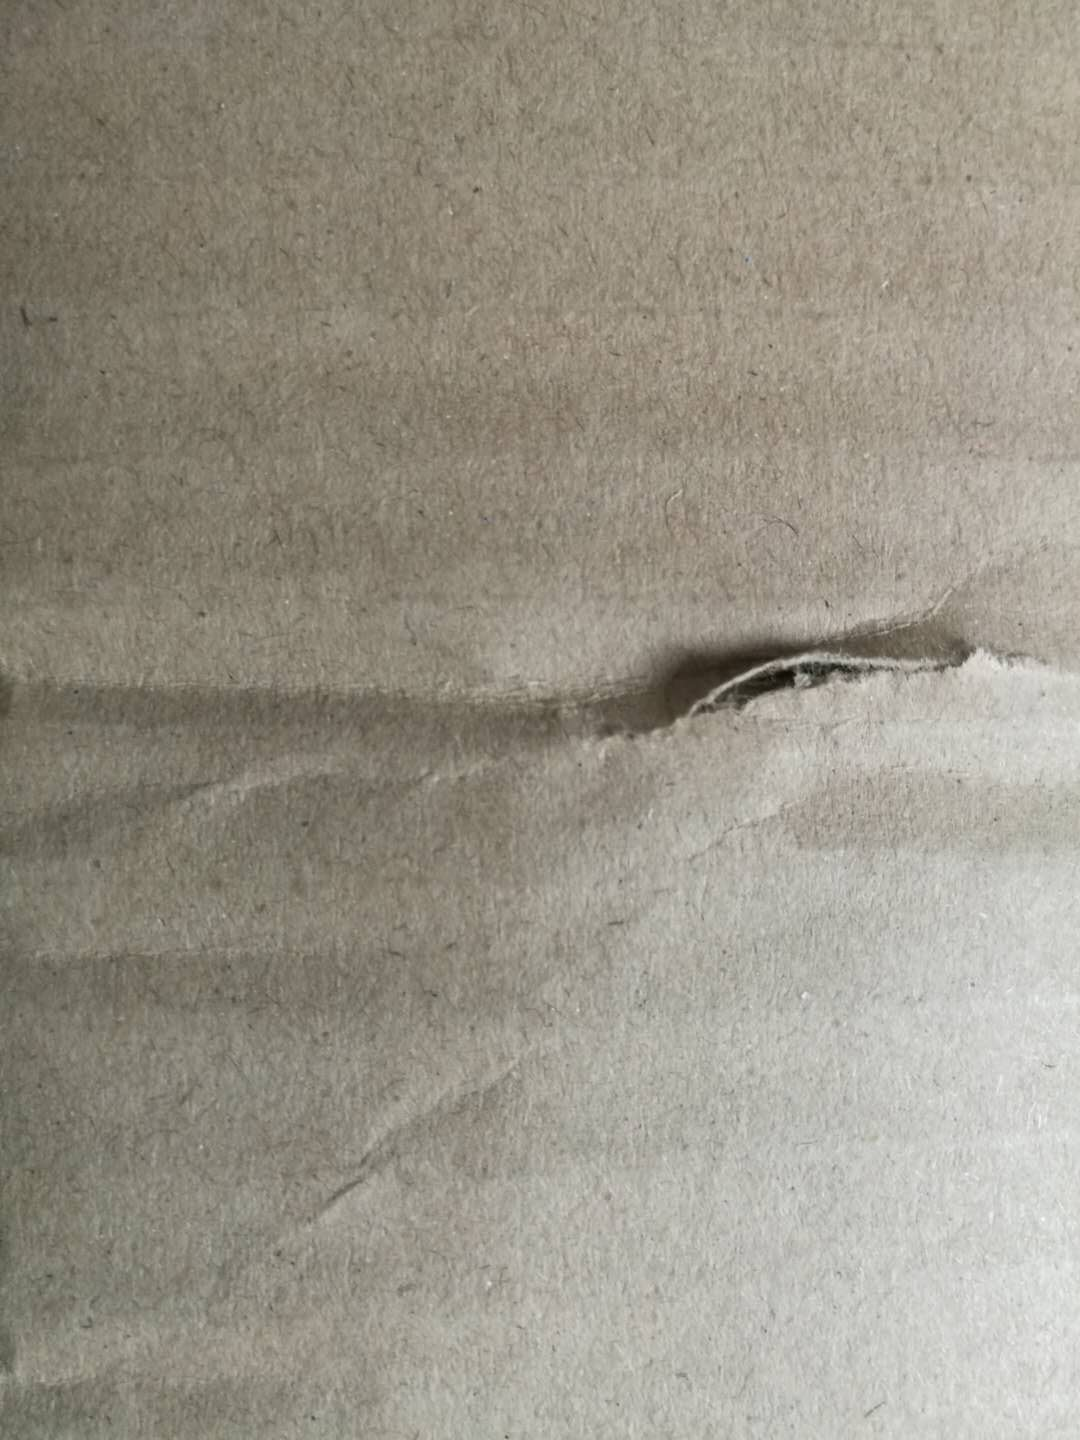defect: (1, 518, 1080, 1416)
